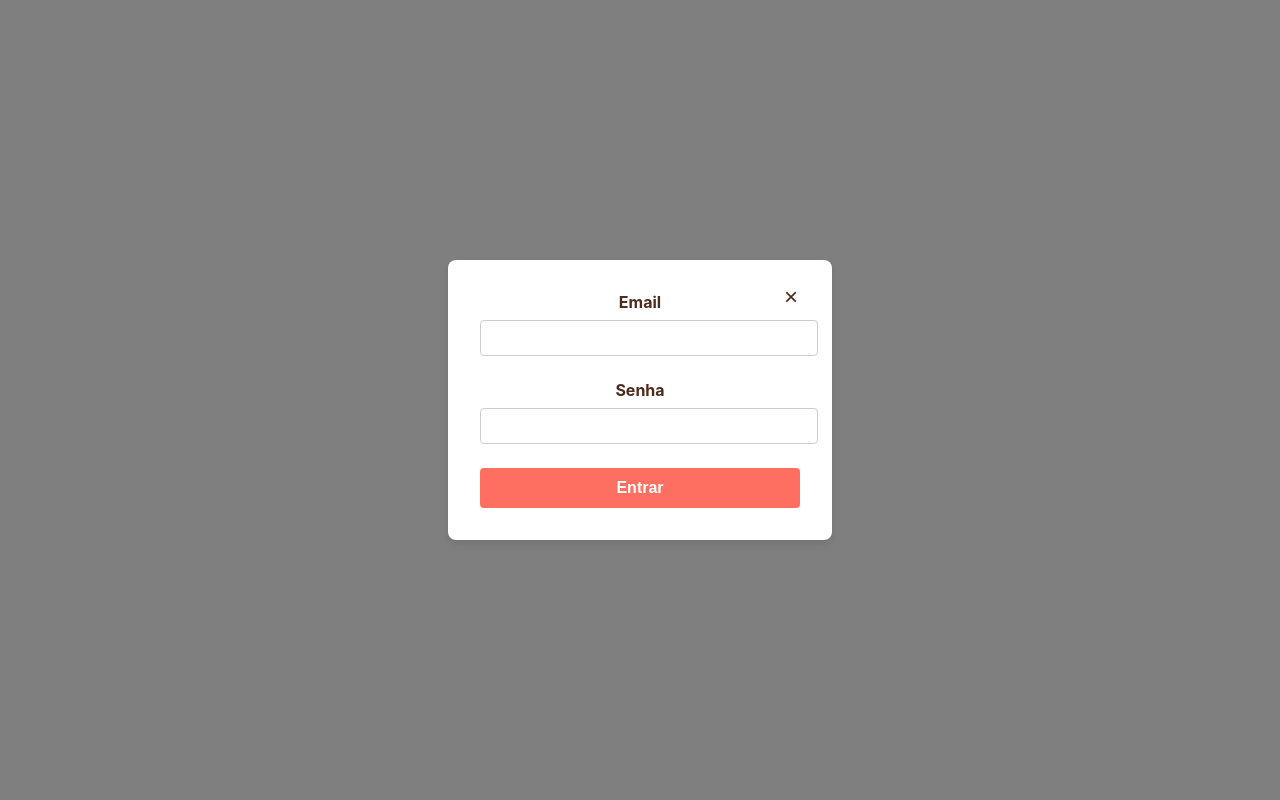
LoginPopup component › should display error message when login fails
The width and height of the screenshot is (1280, 800).
Type "test@test.com" into the field labelled "Email" at {"x": 649, "y": 338}, box [480,320,818,356]
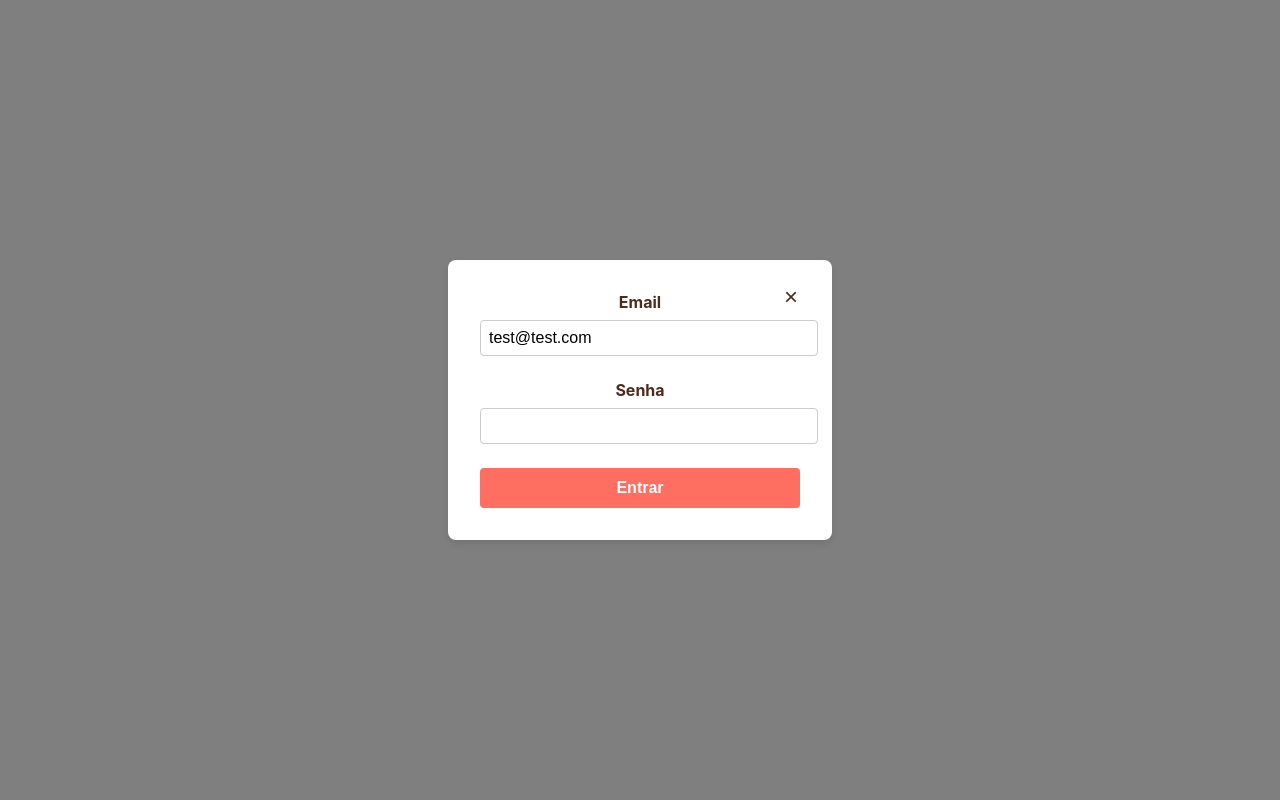
Type "wrongpassword" into the password field labelled "Senha" at {"x": 649, "y": 426}, box [480,408,818,444]
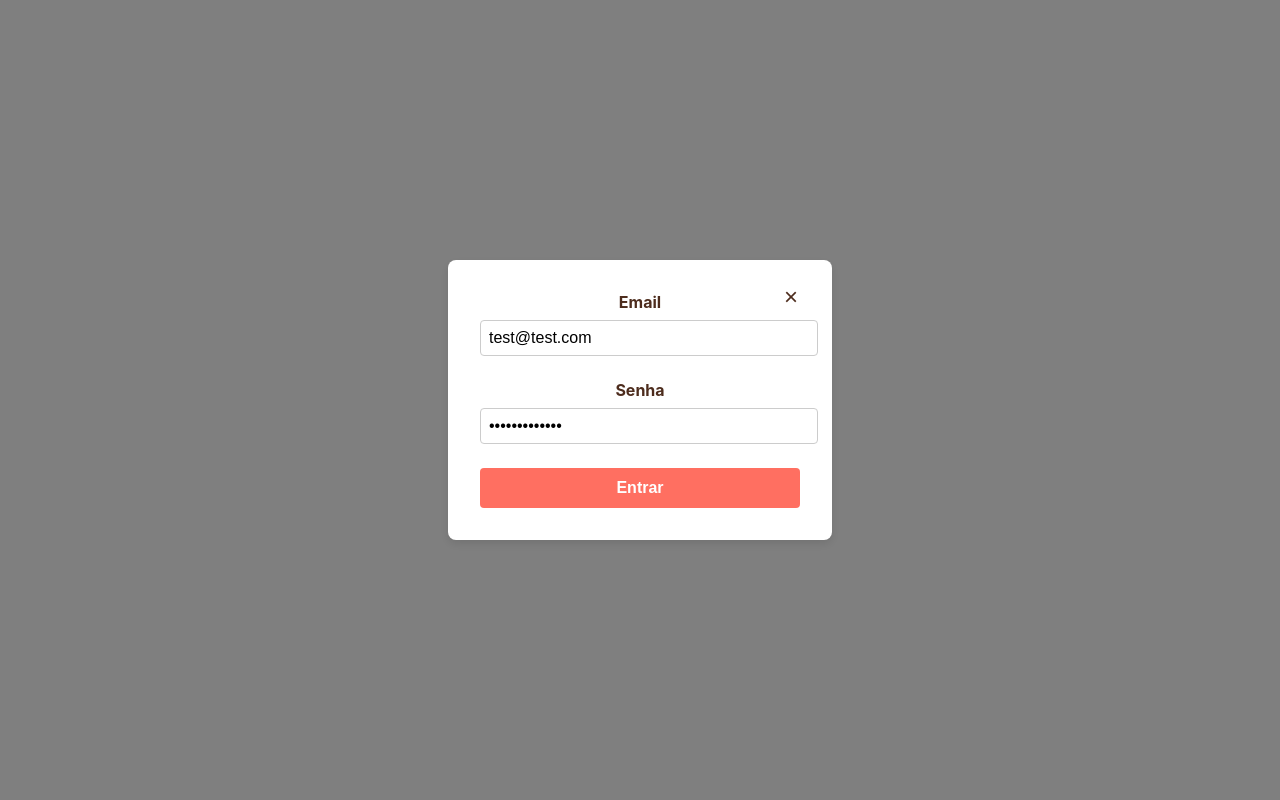
Click the button "Entrar" at {"x": 640, "y": 488}, box [480,468,800,508]
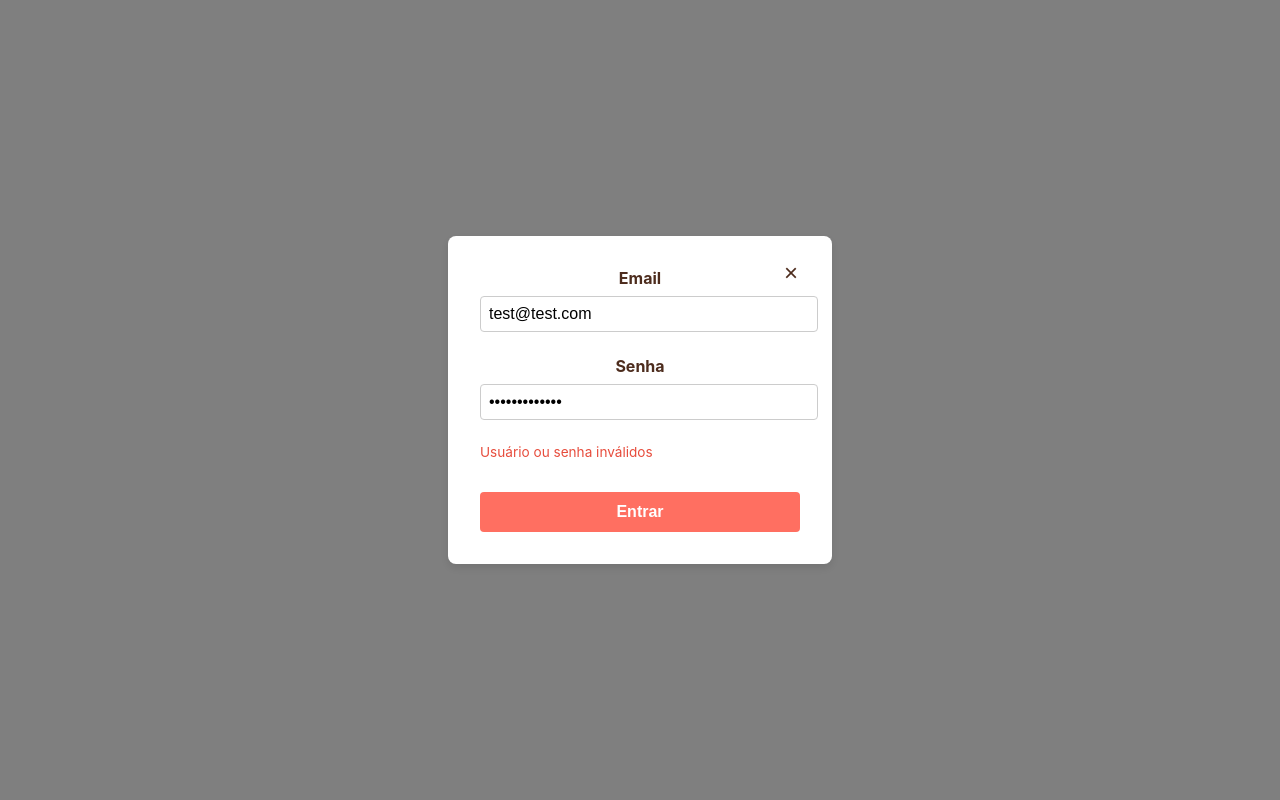
Expected: the text "Usuário ou senha inválidos" is shown, [480,444,653,460]
